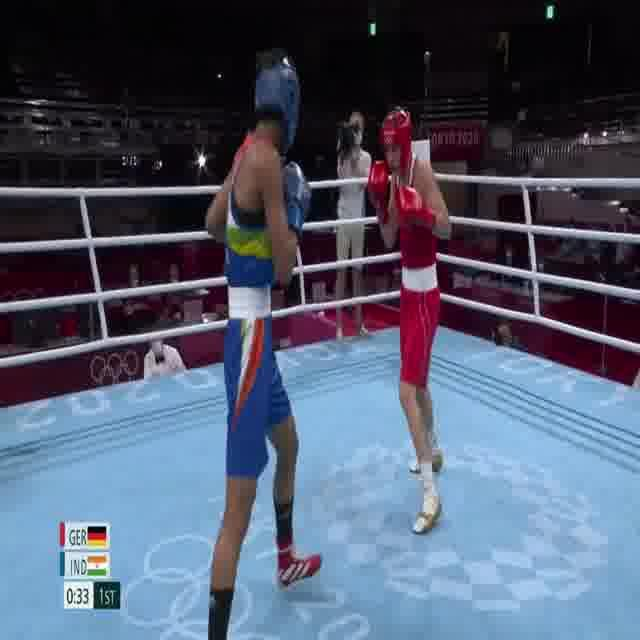blue-player: (199, 46, 323, 640)
red-player: (369, 102, 453, 539)
